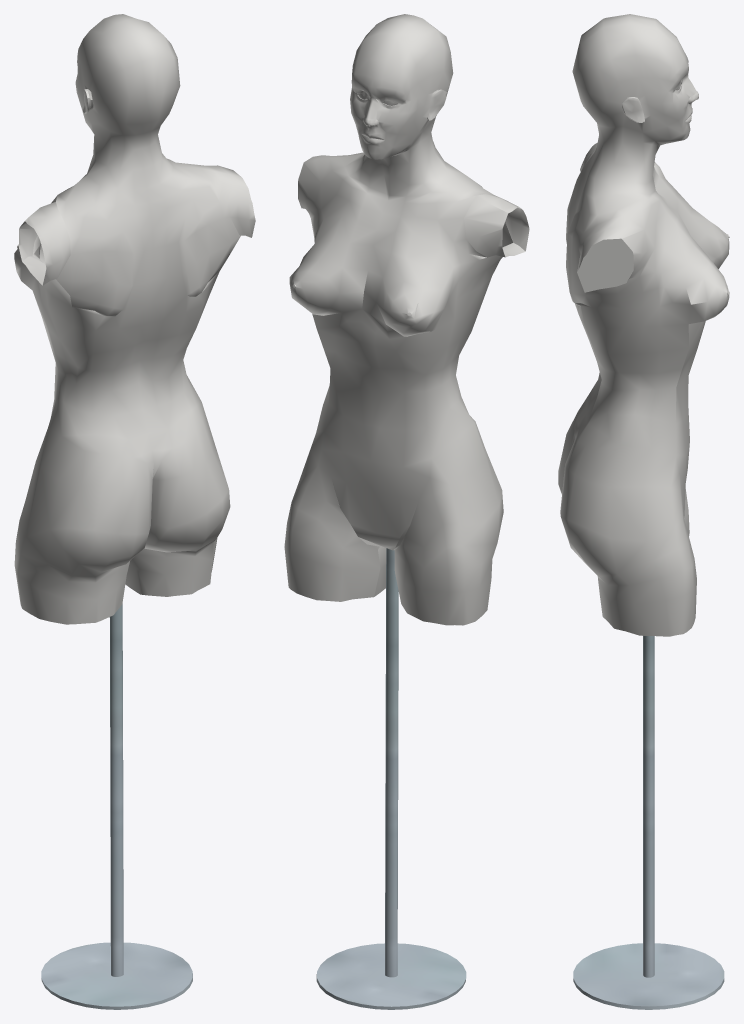
File: sketchfab-store-mannequin.2f4a84be.glb
The picture shows the model from 3 angles, left to right: view 1: azimuth 30°, elevation 25°; view 2: azimuth 150°, elevation 25°; view 3: azimuth 270°, elevation 25°; orthographic projection.
Visible parts, largest first — view 1: MOB-002_Plastique - Blanc brillant_0, object 2; view 2: MOB-002_Plastique - Blanc brillant_0, object 2; view 3: MOB-002_Plastique - Blanc brillant_0, object 2.
Part boxes in pixels (x1,y1,x2,y2): MOB-002_Plastique - Blanc brillant_0: (14,14,255,624); object 2: (41,604,192,1009); MOB-002_Plastique - Blanc brillant_0: (284,14,529,625); object 2: (316,548,466,1009); MOB-002_Plastique - Blanc brillant_0: (558,14,729,636); object 2: (573,636,724,1009).
Size of the model in its own units: 0.3554 by 1.58 by 0.2546.
Materials: 2 (1 with a texture image).
